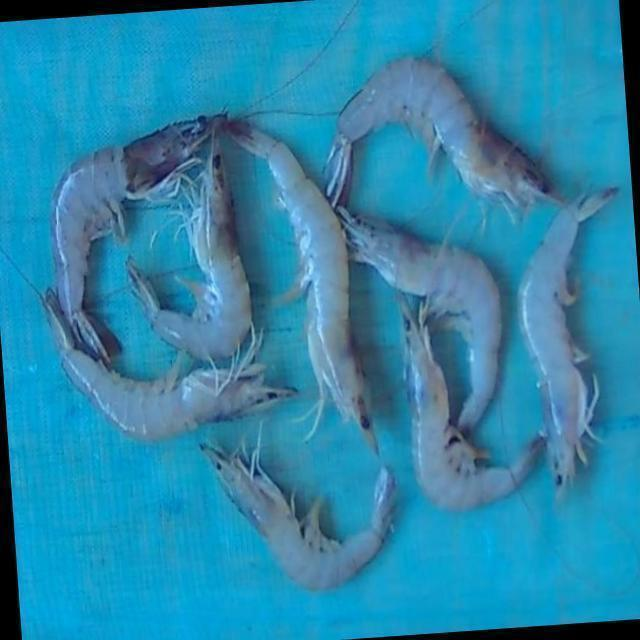shrimp: (224, 120, 377, 451), (50, 114, 224, 362), (42, 290, 296, 441), (336, 206, 502, 431), (325, 57, 558, 208), (400, 295, 545, 511), (519, 187, 617, 487), (124, 134, 251, 363), (200, 444, 395, 591)
